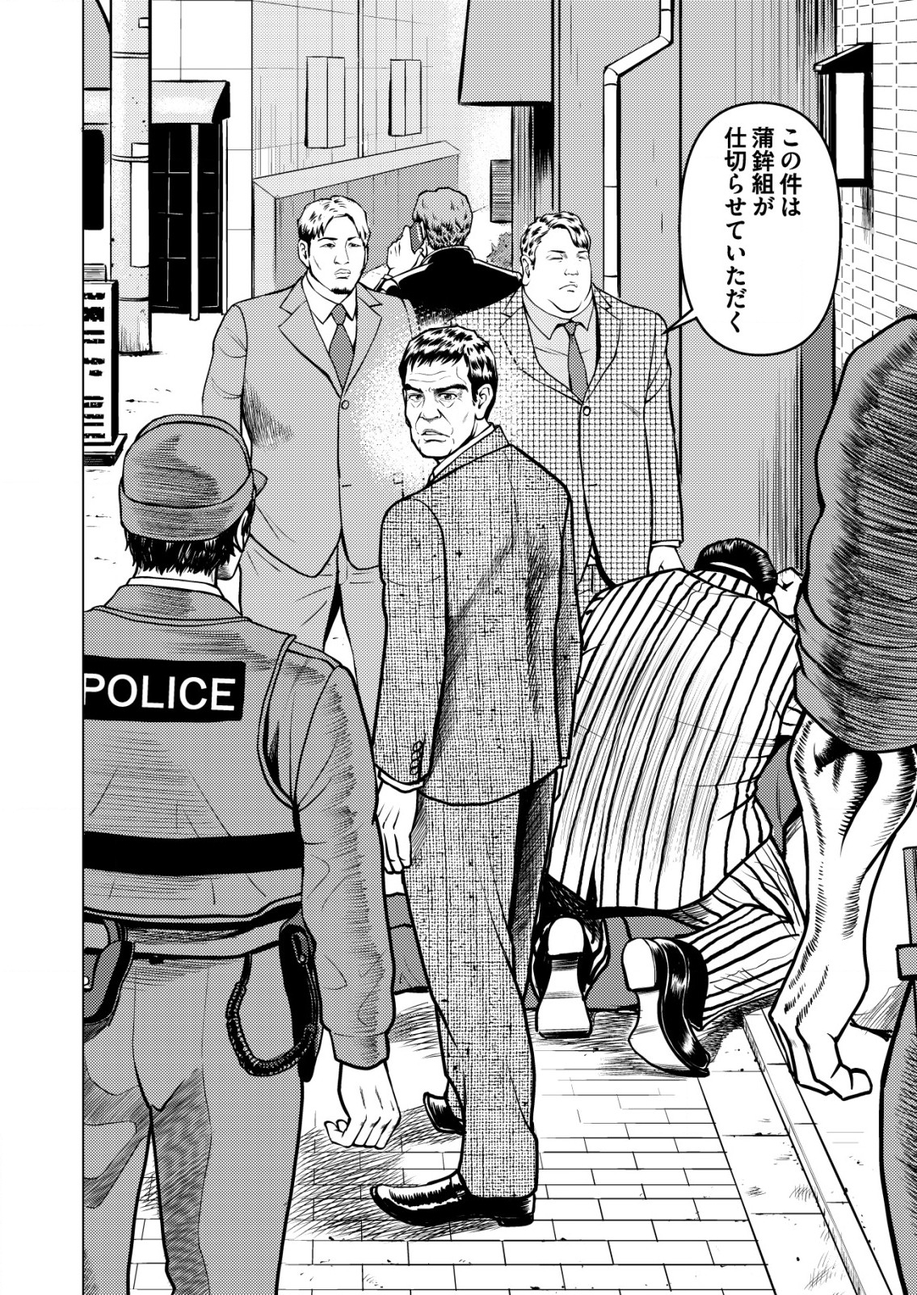bubbles: (669, 98, 848, 359)
